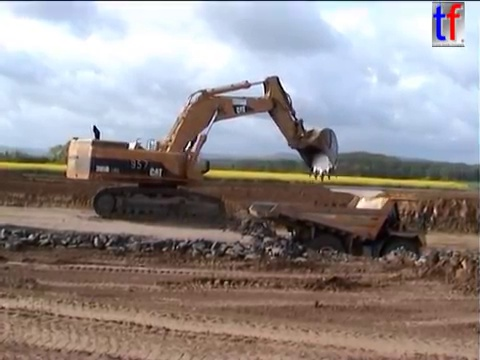excavator: (63, 73, 341, 225)
truck: (245, 192, 435, 279)
